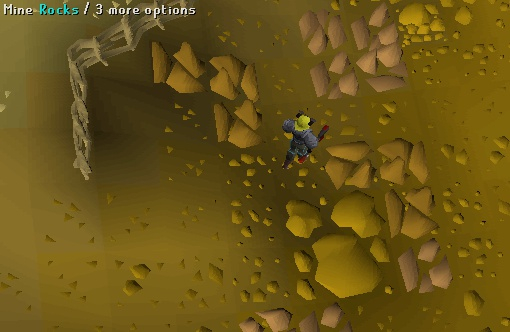granite: (302, 54, 363, 105), (347, 1, 408, 52)
sandstone: (207, 95, 274, 153), (141, 38, 208, 96), (202, 40, 269, 98), (310, 134, 377, 192), (378, 184, 445, 242)
